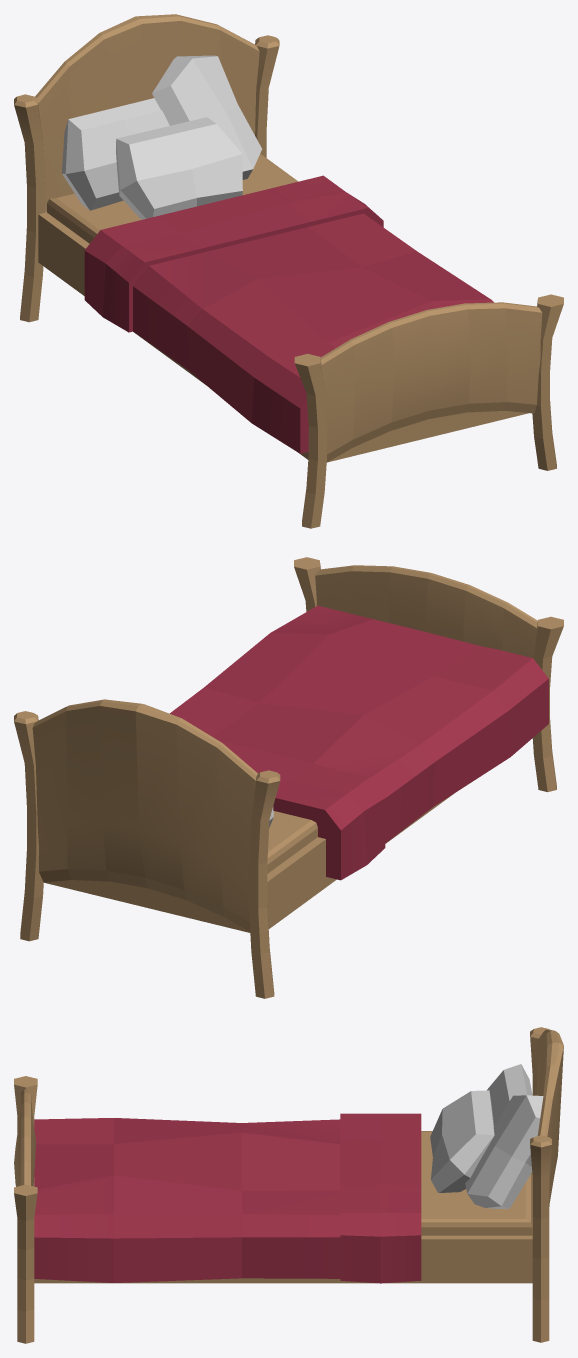
File: mod_bed.fbx
3 renders of one model, top to bottom at view 1: azimuth 30°, elevation 25°; view 2: azimuth 150°, elevation 25°; view 3: azimuth 270°, elevation 25°, orthographic. The views are drawn at different scales.
Visible parts, largest first — view 1: mod_structure, mod_blanket, mod_pillow; view 2: mod_structure, mod_blanket; view 3: mod_blanket, mod_structure, mod_pillow.
Part boxes in pixels (x1=…): mod_structure: x1=14, y1=14, x2=563, y2=528; mod_blanket: x1=84, y1=175, x2=493, y2=453; mod_pillow: x1=61, y1=55, x2=261, y2=219; mod_structure: x1=14, y1=557, x2=563, y2=998; mod_blanket: x1=170, y1=605, x2=548, y2=880; mod_blanket: x1=34, y1=1113, x2=421, y2=1283; mod_structure: x1=14, y1=1027, x2=563, y2=1343; mod_pillow: x1=430, y1=1064, x2=543, y2=1208.
Size of the model in its own units: 95.49 by 90.16 by 185.
